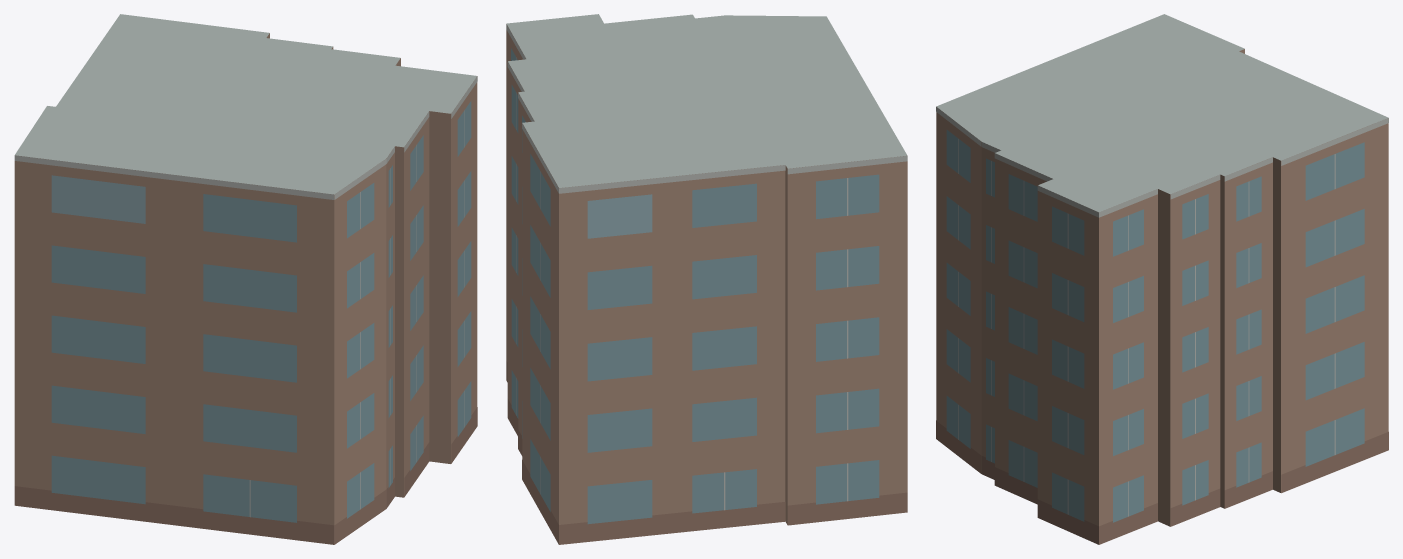
The model's file is survey-upis-32655135.glb.
3 views of the same model, side by side, from view 1: azimuth 30°, elevation 25°; view 2: azimuth 150°, elevation 25°; view 3: azimuth 270°, elevation 25° (orthographic). The views are drawn at different scales.
Parts seen in each view (by area): view 1: survey-upis-32655135.tmp; view 2: survey-upis-32655135.tmp; view 3: survey-upis-32655135.tmp.
Boxes of the visible parts, box(x1,y1,x2,y2) form: survey-upis-32655135.tmp: box(14, 14, 477, 544); survey-upis-32655135.tmp: box(506, 14, 907, 544); survey-upis-32655135.tmp: box(936, 14, 1388, 544).
Bounding box in the file's own units: 19.52 × 15.25 × 18.82.
